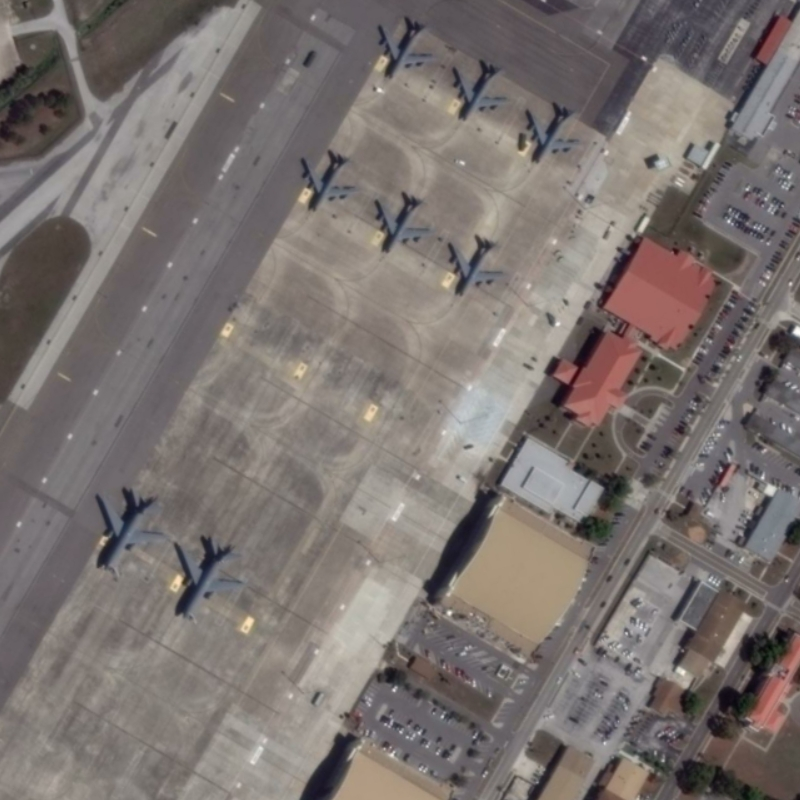A14: (370, 187, 436, 258), (299, 147, 362, 214), (450, 57, 513, 124), (375, 17, 439, 82), (524, 99, 584, 168), (447, 233, 509, 299)
A18: (171, 532, 249, 624), (91, 482, 167, 574)
